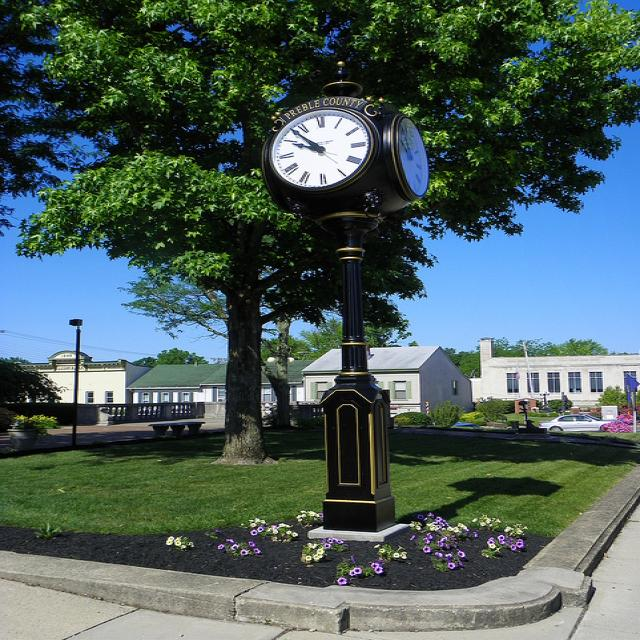Vehicle: (539, 414, 617, 432), (454, 422, 481, 426)
